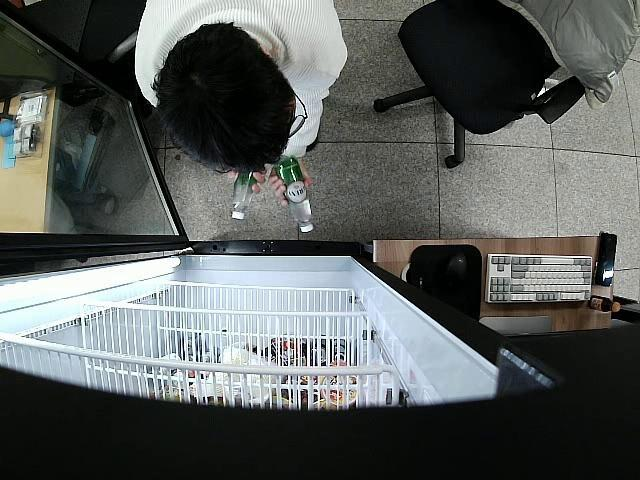18_trevi: (278, 152, 316, 234), (231, 169, 259, 218)
